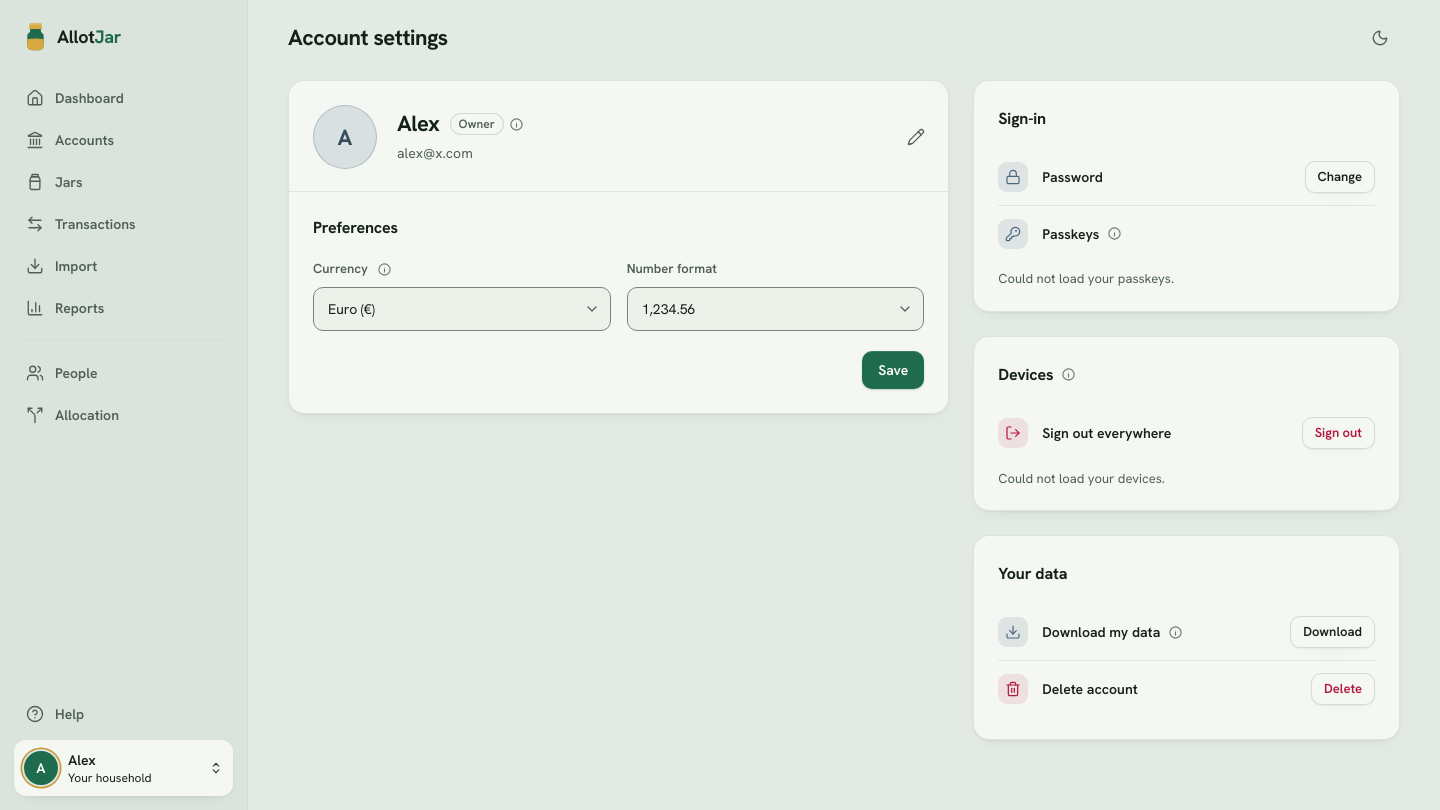
it: AccountPage — preferences catalog (PREF) › PREF-018: a failed preferences save applies nothing app-wide (no optimistic switch)
This screenshot has width=1440, height=810.
Select "1.234,56" in the dropdown labelled "Number format". click: (776, 309)
box: x1=627 y1=287 x2=924 y2=331
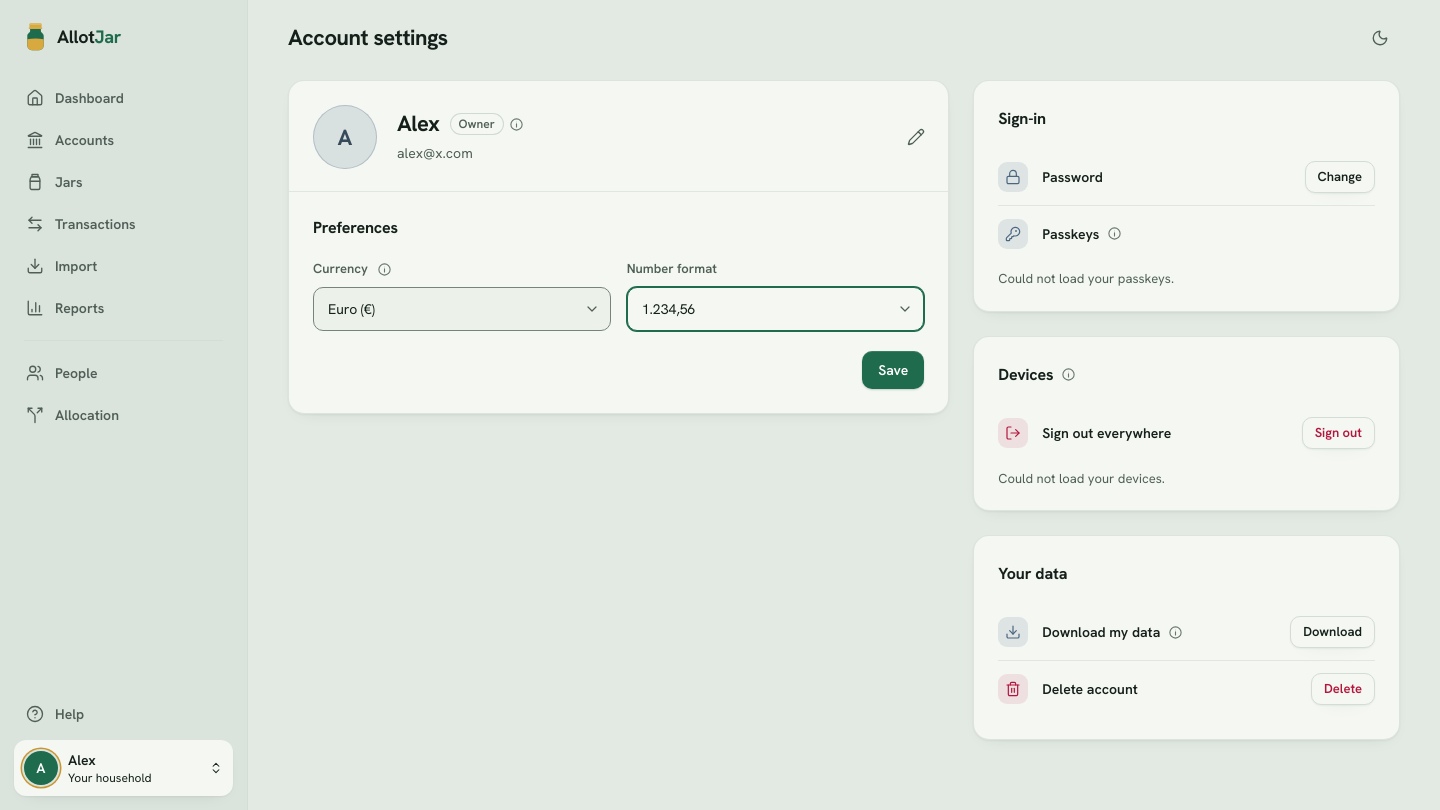
Click the button with aria-label "Save preferences". click: (893, 370)
box: x1=862 y1=351 x2=924 y2=389
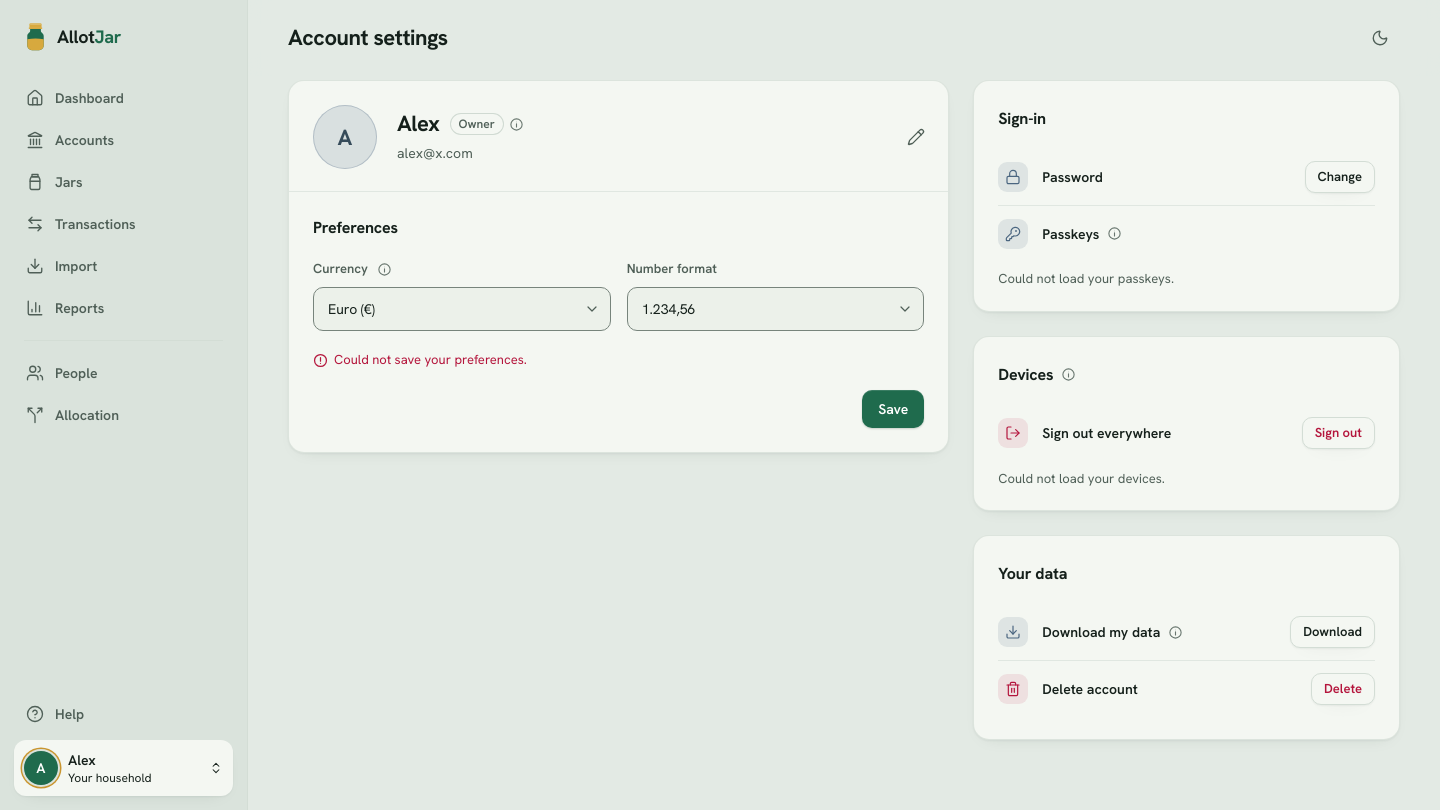
Now the message reads "Could not save your preferences.", box x1=334 y1=351 x2=527 y2=368
